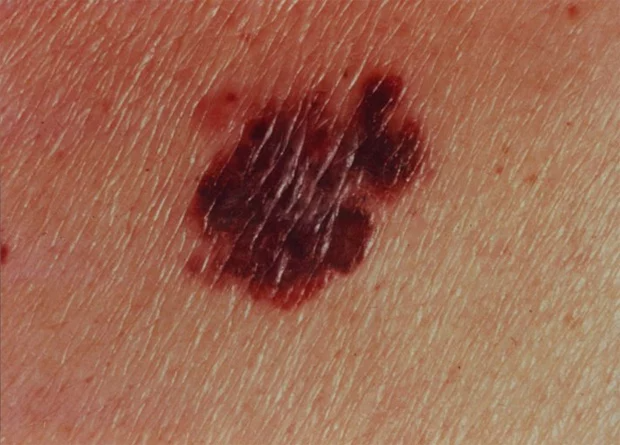Melanoma: (186, 70, 431, 312)
